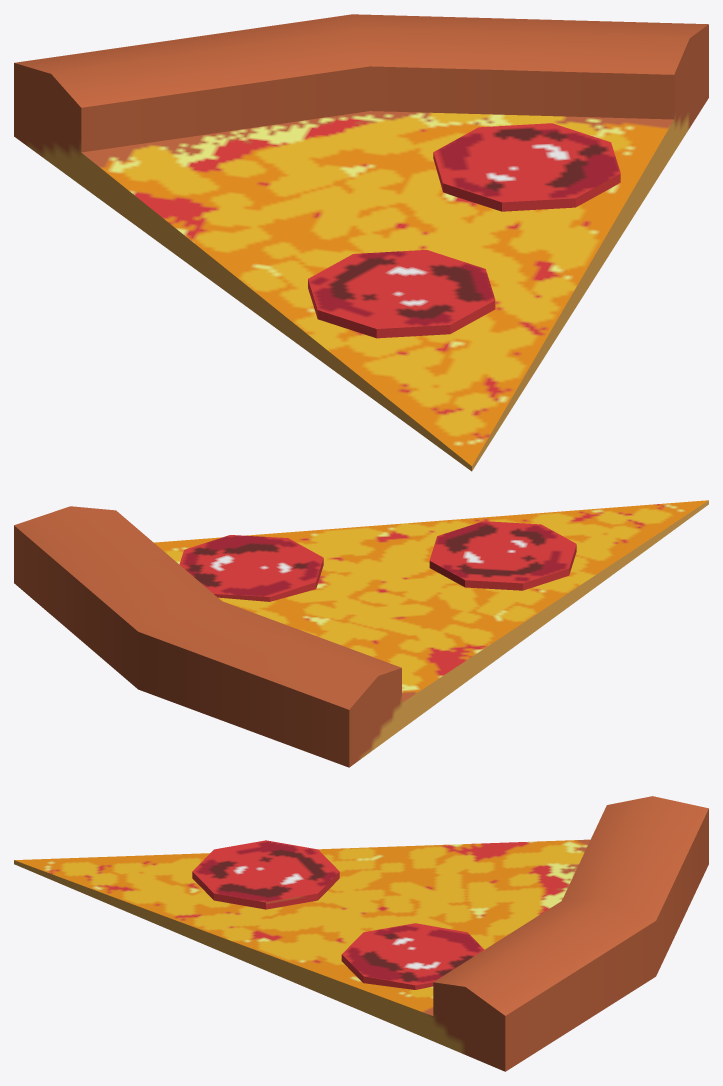
The model's file is Pizza_Cooked.fbx.
3 views of the same model, one above another, from view 1: azimuth 30°, elevation 25°; view 2: azimuth 150°, elevation 25°; view 3: azimuth 270°, elevation 25° (orthographic). The views are drawn at different scales.
Visible parts, largest first — view 1: Pizza_Cooked; view 2: Pizza_Cooked; view 3: Pizza_Cooked.
Boxes of the visible parts, bbox=[...] form: Pizza_Cooked: bbox=[14, 14, 708, 471]; Pizza_Cooked: bbox=[14, 500, 708, 767]; Pizza_Cooked: bbox=[14, 796, 708, 1071].
Size of the model in its own units: 52.64 by 8.05 by 74.44.
